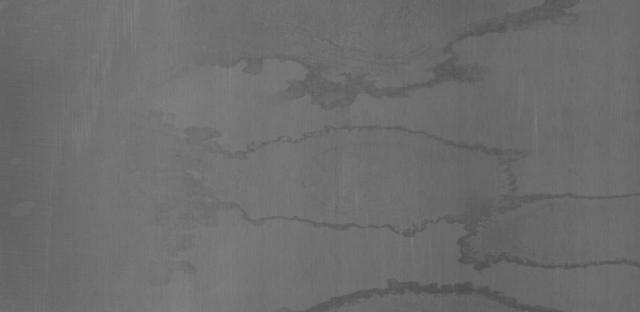water_spot: (112, 112, 291, 282), (293, 56, 394, 114), (472, 135, 537, 189), (463, 244, 522, 279), (415, 58, 468, 96), (227, 41, 268, 82), (463, 20, 524, 46), (397, 210, 442, 243), (567, 181, 618, 208), (374, 277, 424, 302)
